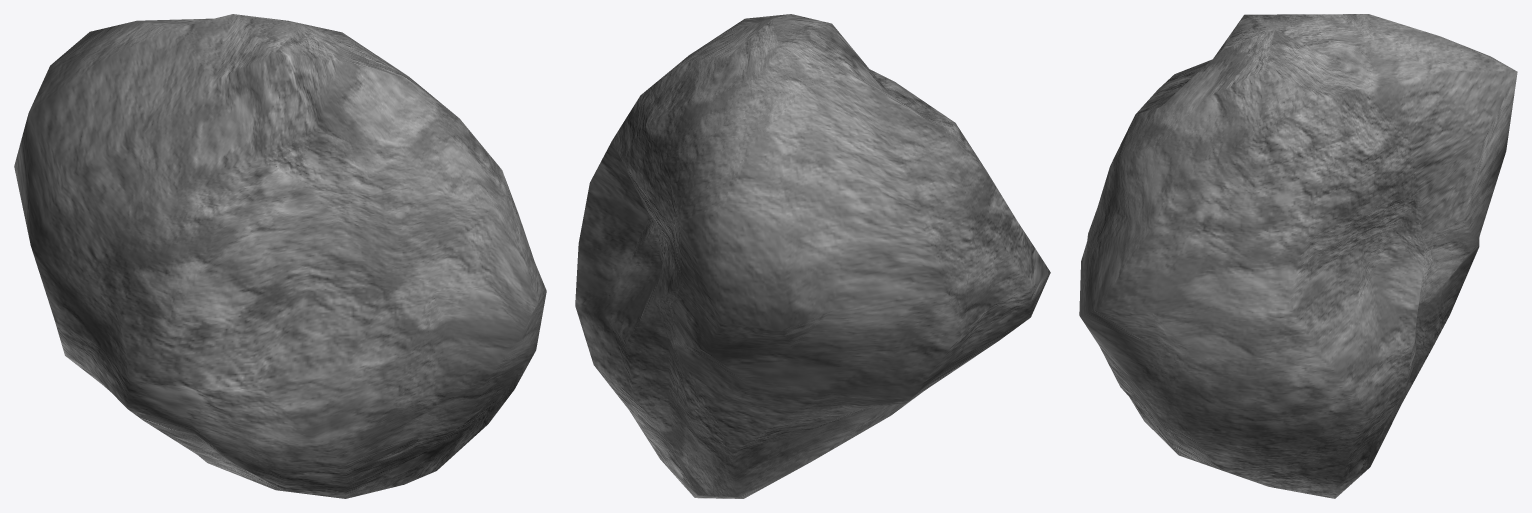
The model's file is asteroid_1m.obj.
The picture shows the model from 3 angles, left to right: view 1: azimuth 30°, elevation 25°; view 2: azimuth 150°, elevation 25°; view 3: azimuth 270°, elevation 25°; orthographic projection. The views are drawn at different scales.
Parts seen in each view (by area): view 1: GeoSphere001; view 2: GeoSphere001; view 3: GeoSphere001.
Part boxes in pixels (x1,y1,x2,y2): GeoSphere001: [14, 14, 546, 498]; GeoSphere001: [575, 14, 1050, 498]; GeoSphere001: [1079, 14, 1517, 498].
Size of the model in its own units: 639 by 712 by 632.
